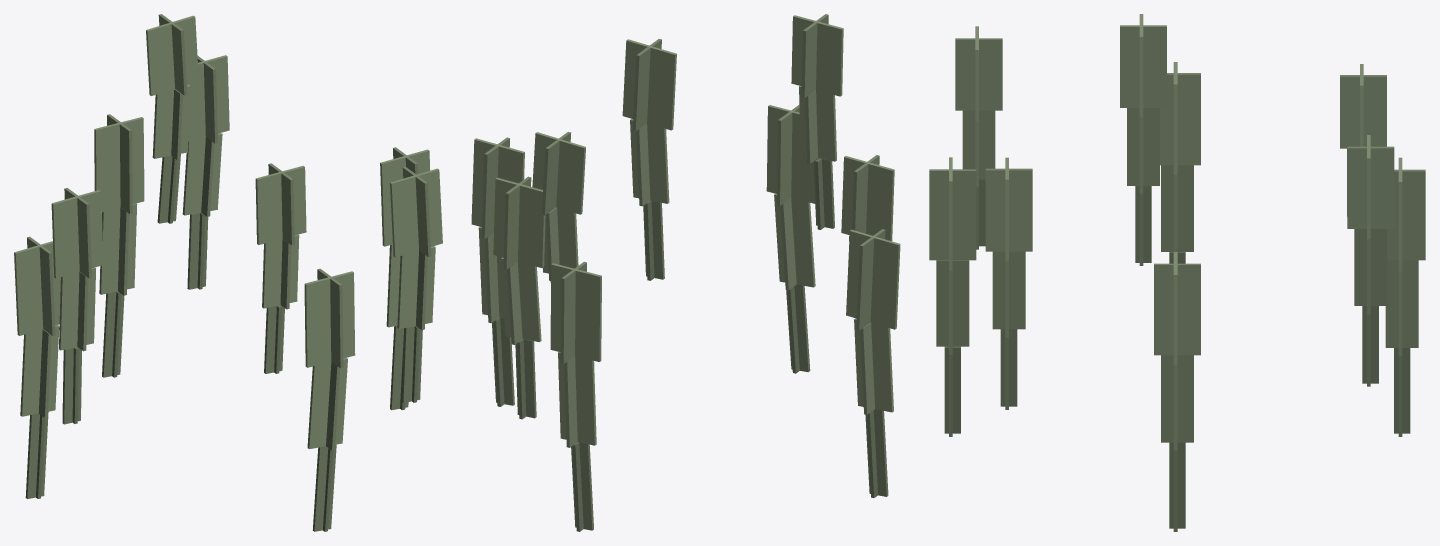
File: Facet_A.glb
3 renders of one model, left to right at view 1: azimuth 30°, elevation 25°; view 2: azimuth 150°, elevation 25°; view 3: azimuth 270°, elevation 25°, orthographic. The views are drawn at different scales.
Visible parts, largest first — view 1: Knees; view 2: Knees; view 3: Knees.
Boxes of the visible parts, x1=… form: Knees: x1=14, y1=14, x2=442, y2=531; Knees: x1=471, y1=14, x2=900, y2=531; Knees: x1=929, y1=14, x2=1425, y2=531.
Bounding box in the file's own units: 16.57 × 13.58 × 16.04.
